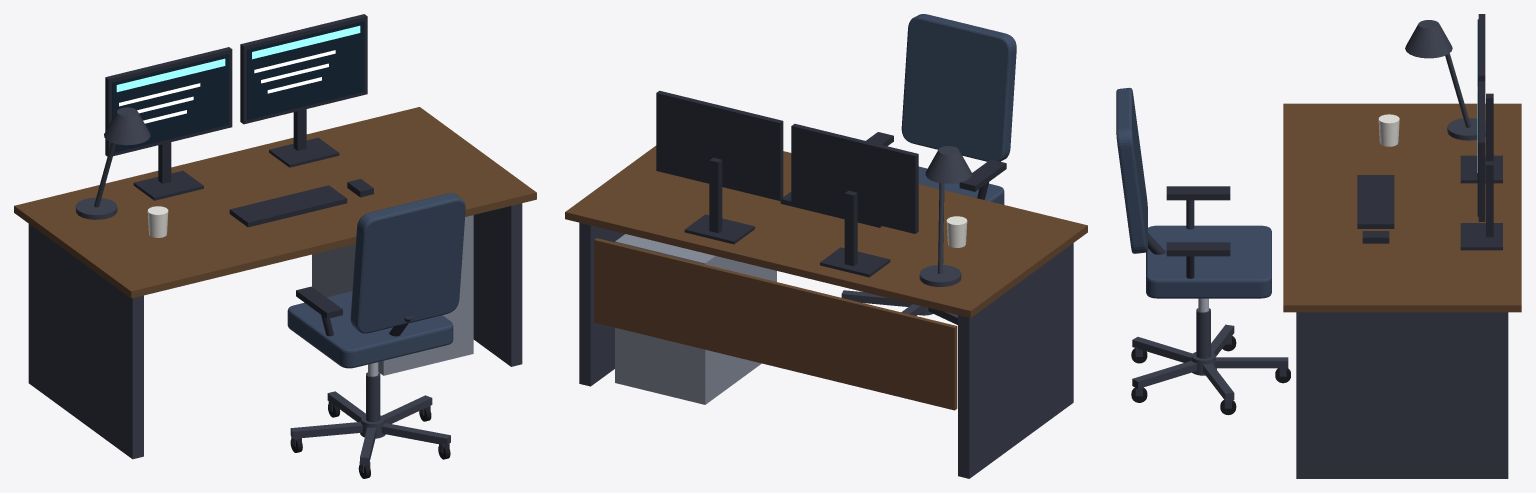
3 renders of one model, left to right at view 1: azimuth 30°, elevation 25°; view 2: azimuth 150°, elevation 25°; view 3: azimuth 270°, elevation 25°, orthographic.
Visible parts, largest first — view 1: walnut, dark_steel, chair_fabric, monitor_screen, plastic_dark, locker_grey, pump_screen, display_white, rubber, ceramic_white; view 2: walnut, dark_steel, plastic_dark, chair_fabric, locker_grey, ceramic_white; view 3: walnut, dark_steel, chair_fabric, plastic_dark, rubber, ceramic_white.
Part boxes in pixels (bbox=[...]): walnut: bbox=[14, 107, 536, 298]; dark_steel: bbox=[28, 107, 522, 472]; chair_fabric: bbox=[287, 193, 465, 368]; monitor_screen: bbox=[112, 21, 364, 152]; plastic_dark: bbox=[105, 14, 412, 336]; locker_grey: bbox=[312, 215, 473, 375]; pump_screen: bbox=[116, 25, 360, 92]; display_white: bbox=[119, 50, 335, 123]; rubber: bbox=[290, 404, 450, 478]; ceramic_white: bbox=[147, 206, 168, 237]; walnut: bbox=[565, 145, 1087, 410]; dark_steel: bbox=[579, 146, 1073, 478]; plastic_dark: bbox=[656, 90, 1006, 277]; chair_fabric: bbox=[901, 14, 1016, 204]; locker_grey: bbox=[615, 234, 776, 404]; ceramic_white: bbox=[946, 216, 967, 247]; walnut: bbox=[1283, 103, 1521, 312]; dark_steel: bbox=[1132, 20, 1508, 478]; chair_fabric: bbox=[1116, 87, 1271, 298]; plastic_dark: bbox=[1148, 14, 1502, 278]; rubber: bbox=[1131, 336, 1290, 415]; ceramic_white: bbox=[1378, 114, 1399, 146].
Bounding box in the file's own units: 1.8 × 1.26 × 1.53.
